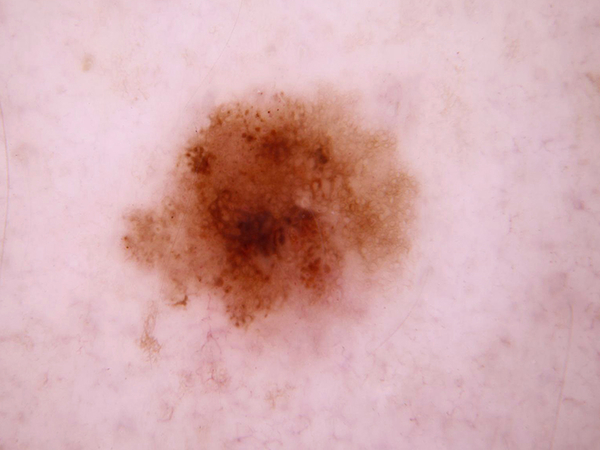Detected Lesion: (117, 82, 428, 329)
